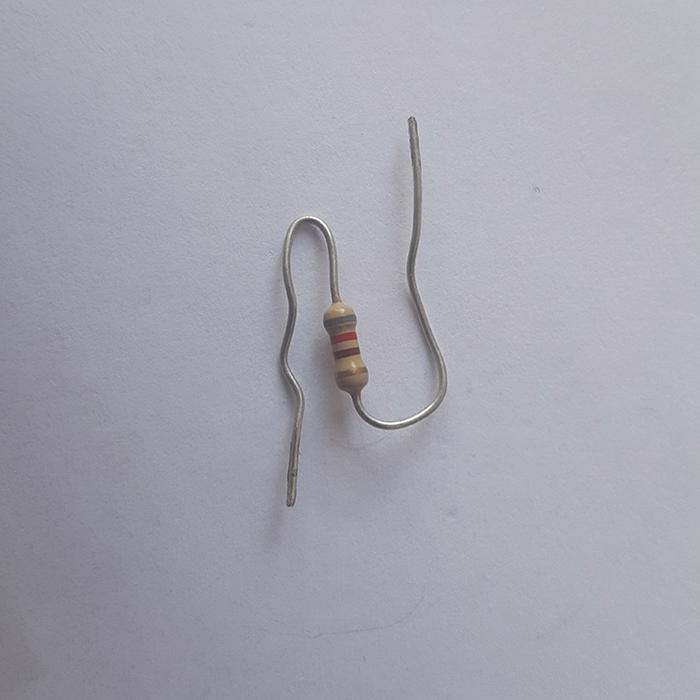resistor: (323, 301, 368, 393)
